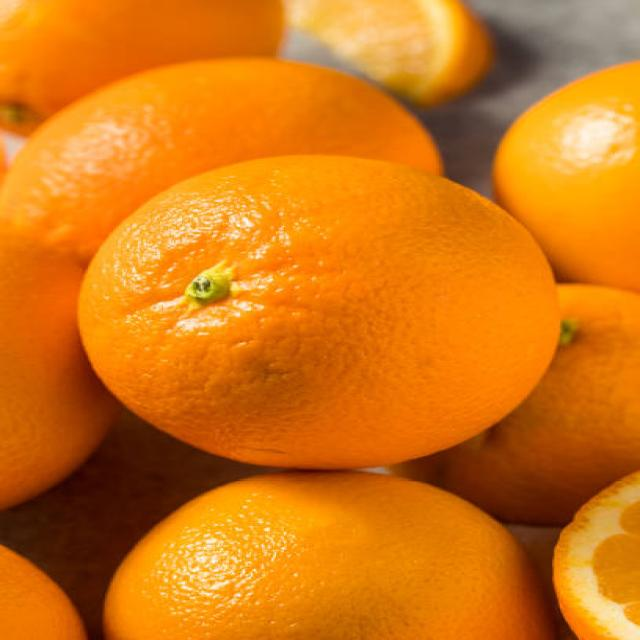Ripe: (73, 150, 562, 472)
